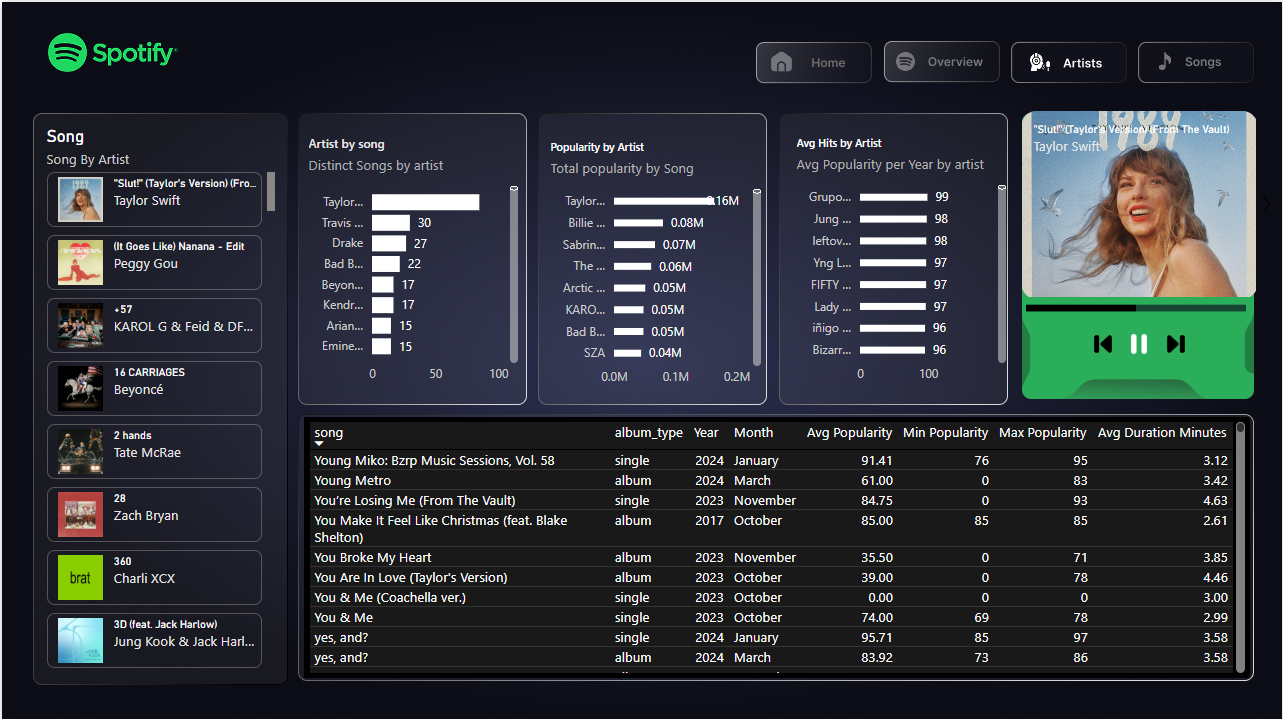

What the dashboard file says about the page in this screenshot:
{"tool":"powerbi","page":{"name":"Artists","canvas":[1280,720],"ordinal":2},"visuals":[{"type":"actionButton","box":[755.7,41.8,111.9,37],"z":0},{"type":"actionButton","box":[882.2,41.8,111.9,37],"z":1000},{"type":"actionButton","box":[1008.6,41.8,111.9,37],"z":2000},{"type":"actionButton","box":[1137,41.8,111.9,37],"z":3000},{"type":"advancedSlicerVisual","title":"Song ","fields":{"Values":["Top-50-World.song"]},"box":[993.8,103.3,286.5,197.4],"z":4000},{"type":"hundredPercentStackedBarChart","fields":{"Y":["_Measures.Avg Popularity","Avg(Top-50-World.popularity)"]},"box":[1019.3,264.6,229.5,76.8],"z":5000},{"type":"image","box":[1153.8,326.6,40,30],"z":6000},{"type":"image","box":[1117.4,326.6,40,30],"z":7000},{"type":"image","box":[1081,326.6,40,30],"z":8000},{"type":"shape","box":[1017.4,115.7,239.3,274.3],"z":9000},{"type":"advancedSlicerVisual","title":"Song ","fields":{"Values":["Top-50-World.song"]},"box":[39.9,123.5,238.3,552.5],"z":13000},{"type":"tableEx","fields":{"Values":["Top-50-World.song","Top-50-World.album_type","Top-50-World.release_date.Variation.Date Hierarchy.Year","Top-50-World.release_date.Variation.Date Hierarchy.Month","_Measures.Avg Popularity","_Measures.Min Popularity","_Measures.Max Popularity","_Measures.Avg Duration Minutes"]},"box":[301.9,415.4,946.6,260.8],"z":14000},{"type":"clusteredBarChart","title":"Artist by song ","fields":{"Category":["Top-50-World.artist"],"Y":["_Measures.Distinct Songs"]},"box":[301.5,133.3,219.8,256.8],"z":14001},{"type":"clusteredBarChart","title":"Popularity by Artist","fields":{"Category":["Top-50-World.artist"],"Y":["Sum(Top-50-World.popularity)"]},"box":[543.8,136.7,219.8,256.6],"z":14002},{"type":"clusteredBarChart","title":"Avg Hits by Artist","fields":{"Category":["Top-50-World.artist"],"Y":["_Measures.Avg Popularity per Year"]},"box":[789.8,133.3,218.8,256.8],"z":14003}]}

Visuals, with their boxes in screenshot pixels (x1, y1, x2, y2), scaled from the page's 1280x720 canvas onto the 1283x719 screenshot:
actionButton: x1=757, y1=42, x2=870, y2=79
actionButton: x1=884, y1=42, x2=996, y2=79
actionButton: x1=1011, y1=42, x2=1123, y2=79
actionButton: x1=1140, y1=42, x2=1252, y2=79
"Song " advancedSlicerVisual: x1=996, y1=103, x2=1282, y2=300
hundredPercentStackedBarChart - _Measures.Avg Popularity x Avg(Top-50-World.popularity): x1=1022, y1=264, x2=1252, y2=341
image: x1=1157, y1=326, x2=1197, y2=356
image: x1=1120, y1=326, x2=1160, y2=356
image: x1=1084, y1=326, x2=1124, y2=356
shape: x1=1020, y1=116, x2=1260, y2=389
"Song " advancedSlicerVisual: x1=40, y1=123, x2=279, y2=675
tableEx - Top-50-World.song x Top-50-World.album_type: x1=303, y1=415, x2=1251, y2=675
"Artist by song " clusteredBarChart: x1=302, y1=133, x2=523, y2=390
"Popularity by Artist" clusteredBarChart: x1=545, y1=137, x2=765, y2=393
"Avg Hits by Artist" clusteredBarChart: x1=792, y1=133, x2=1011, y2=390
